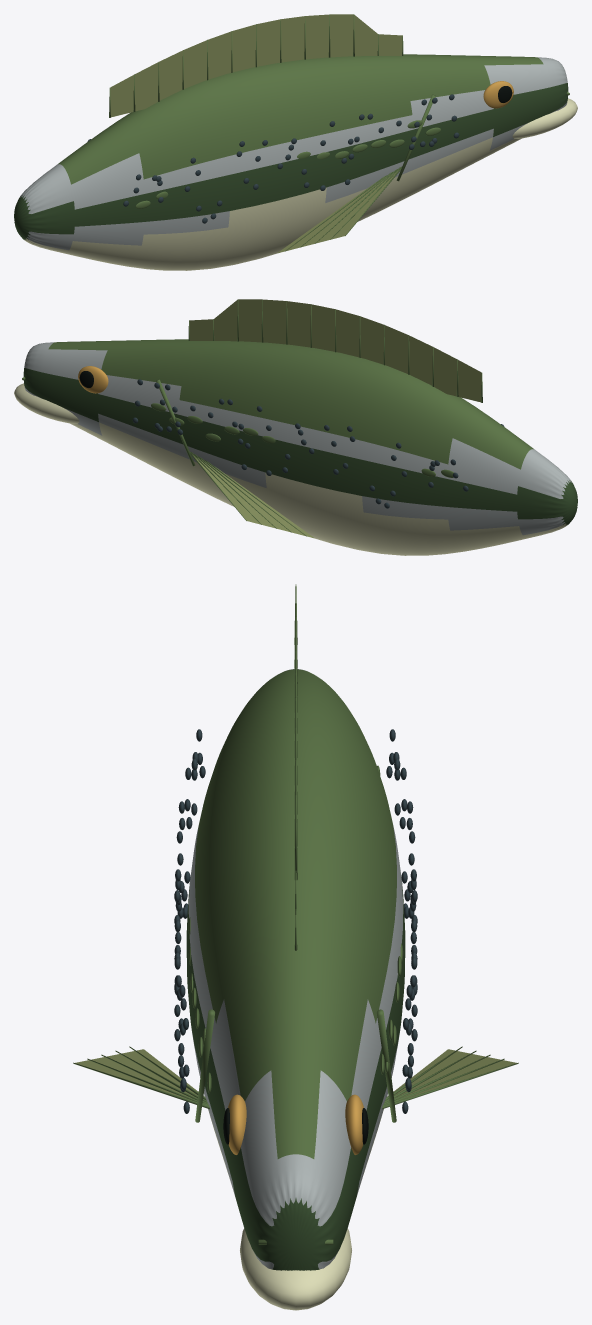
The model's file is SM_TroutBody.fbx.
The picture shows the model from 3 angles, top to bottom: view 1: azimuth 30°, elevation 25°; view 2: azimuth 150°, elevation 25°; view 3: azimuth 270°, elevation 25°; orthographic projection. The views are drawn at different scales.
Visible parts, largest first — view 1: SM_TroutBody; view 2: SM_TroutBody; view 3: SM_TroutBody.
Boxes of the visible parts, x1,y1,x2,y2 form: SM_TroutBody: (14, 14, 577, 270); SM_TroutBody: (14, 299, 577, 555); SM_TroutBody: (73, 584, 518, 1310).
Bounding box in the file's own units: 41.55 × 14.27 × 16.38.
